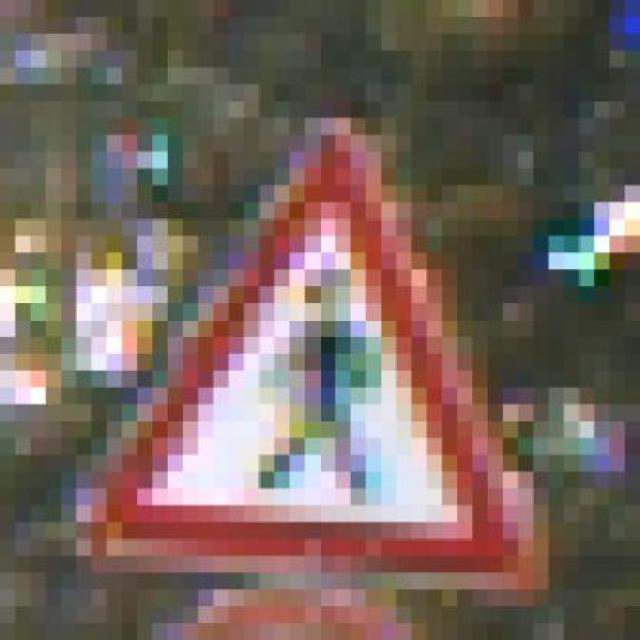Pedestrian Crossing: (61, 101, 564, 590)
